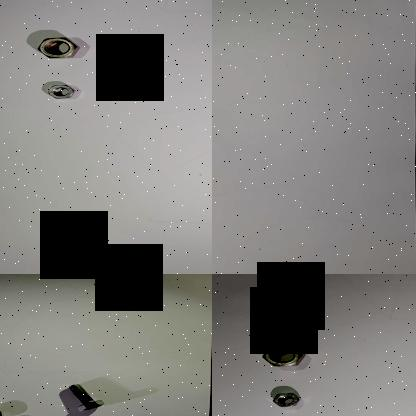Bolts: (62, 380, 112, 412)
NUTS: (33, 35, 92, 61), (256, 340, 307, 370), (41, 83, 81, 103), (268, 390, 302, 408)
